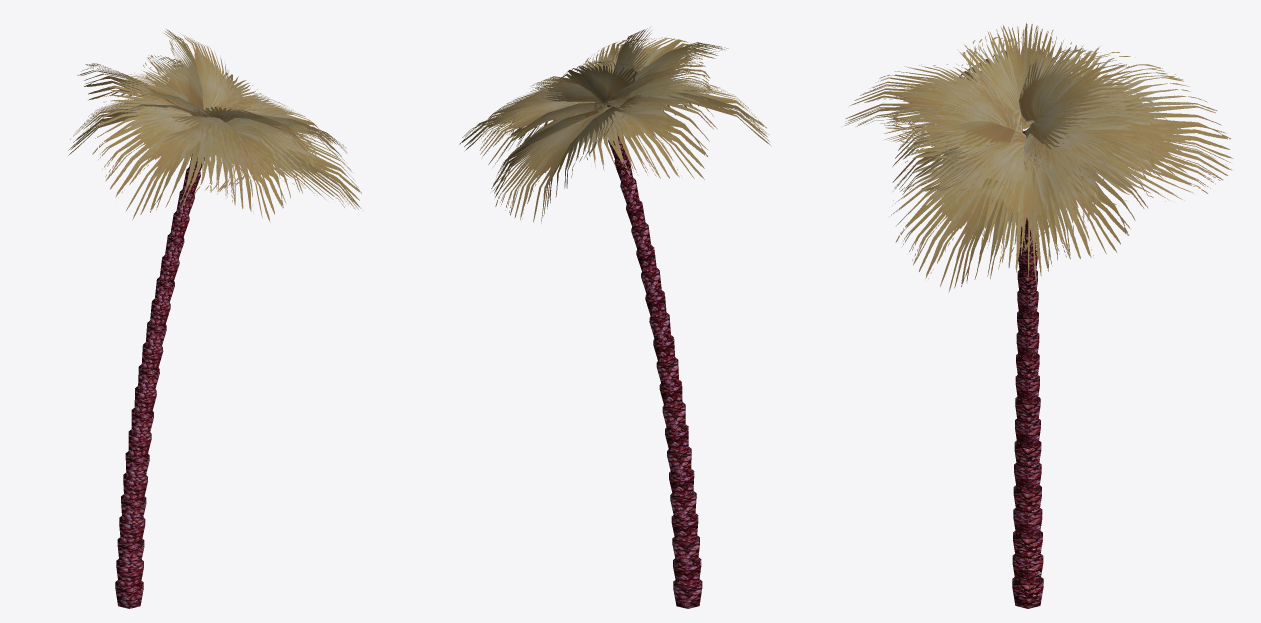
The model's file is eye_tree_you.dae.
3 views of the same model, side by side, from view 1: azimuth 30°, elevation 25°; view 2: azimuth 150°, elevation 25°; view 3: azimuth 270°, elevation 25° (orthographic). The views are drawn at different scales.
Parts seen in each view (by area): view 1: Eye_Tree; view 2: Eye_Tree; view 3: Eye_Tree.
Part boxes in pixels (x1=…): Eye_Tree: x1=68, y1=29, x2=363, y2=608; Eye_Tree: x1=459, y1=28, x2=771, y2=608; Eye_Tree: x1=844, y1=23, x2=1233, y2=608.
Size of what is drawn, in the model's own units: 460 by 694 by 445.
Materials: 1 (1 with a texture image).
